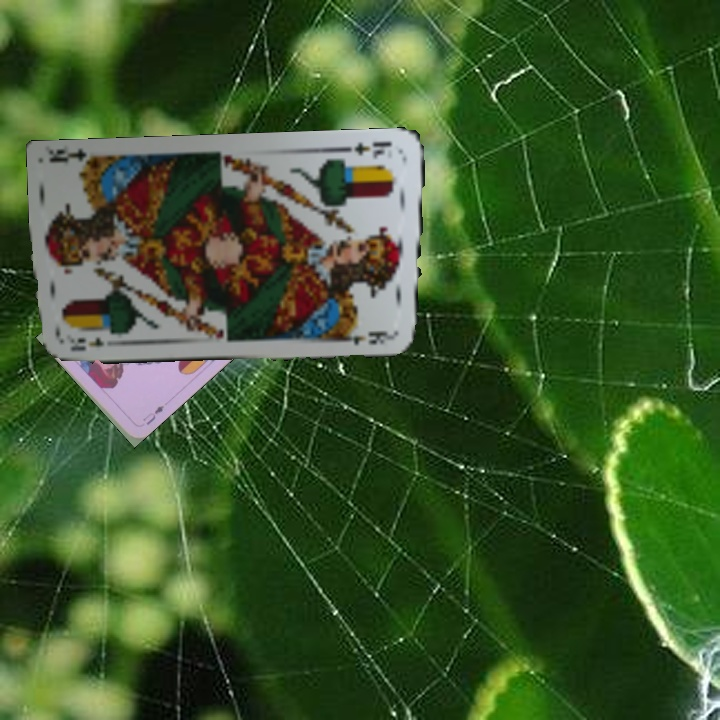EK: (341, 137, 394, 161), (65, 332, 107, 354)
EU: (139, 401, 167, 428)
